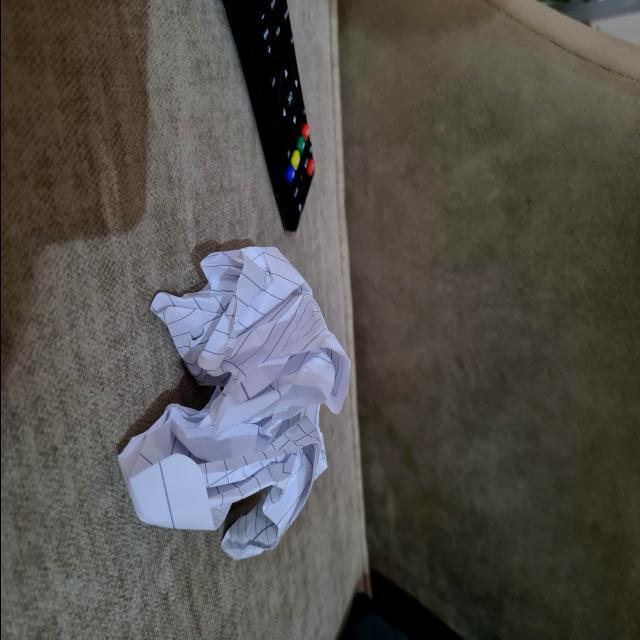Paper: (132, 228, 340, 562)
